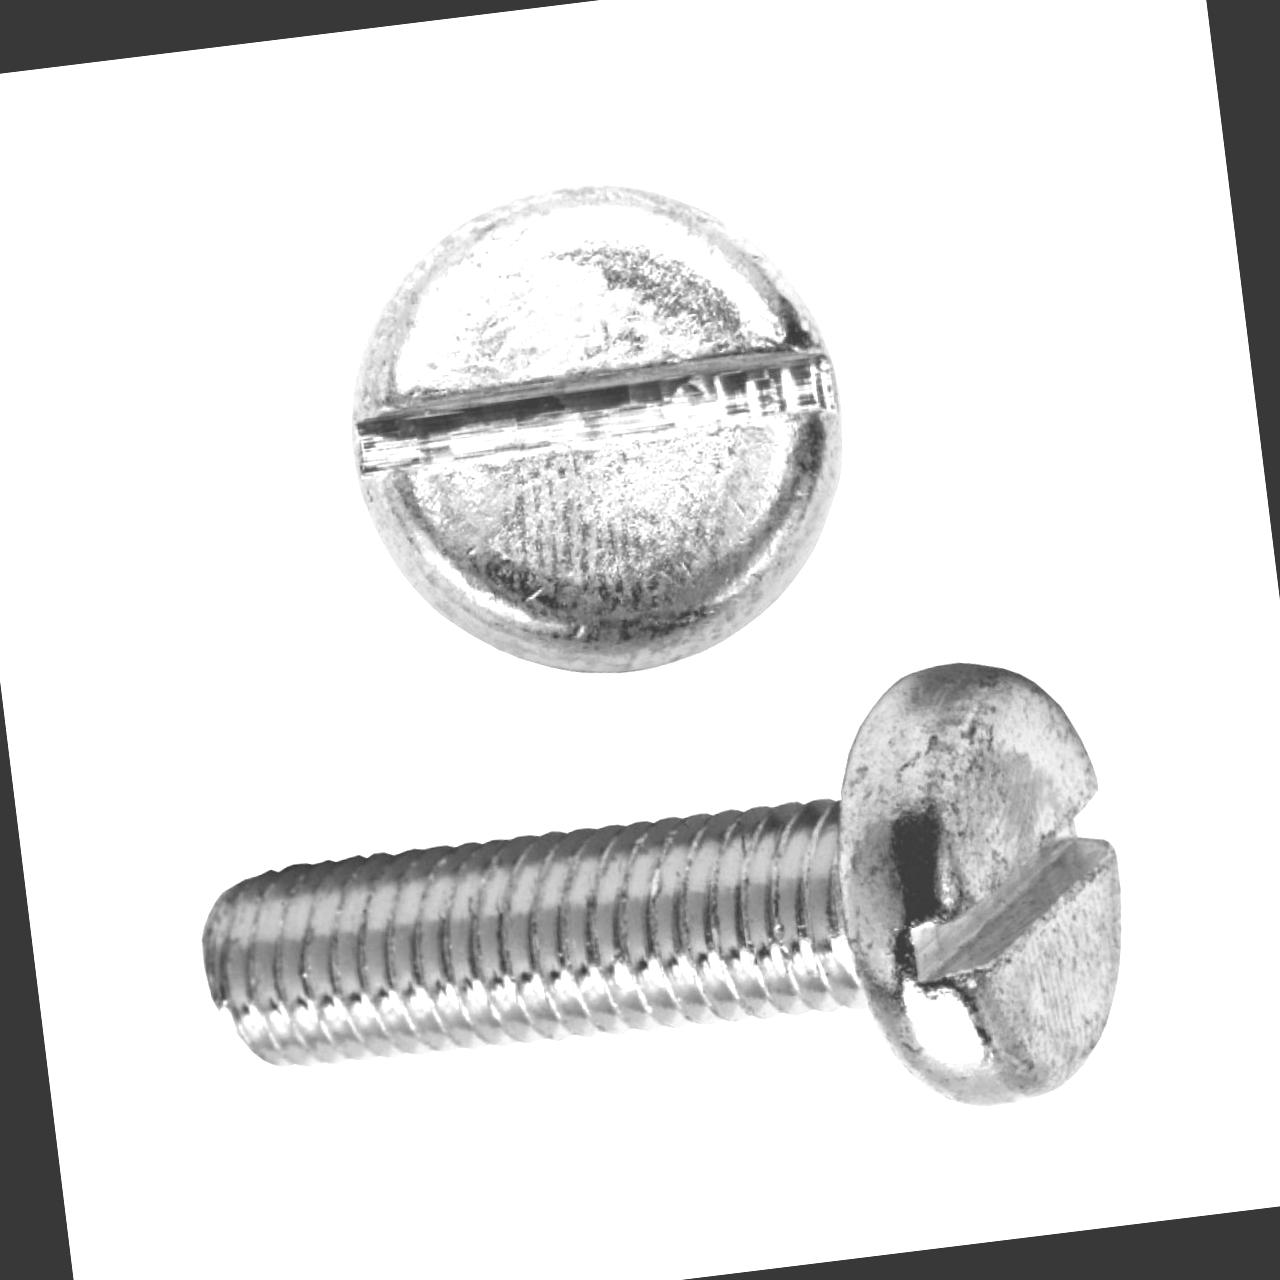screw: (320, 149, 873, 694), (808, 645, 1178, 1131)
